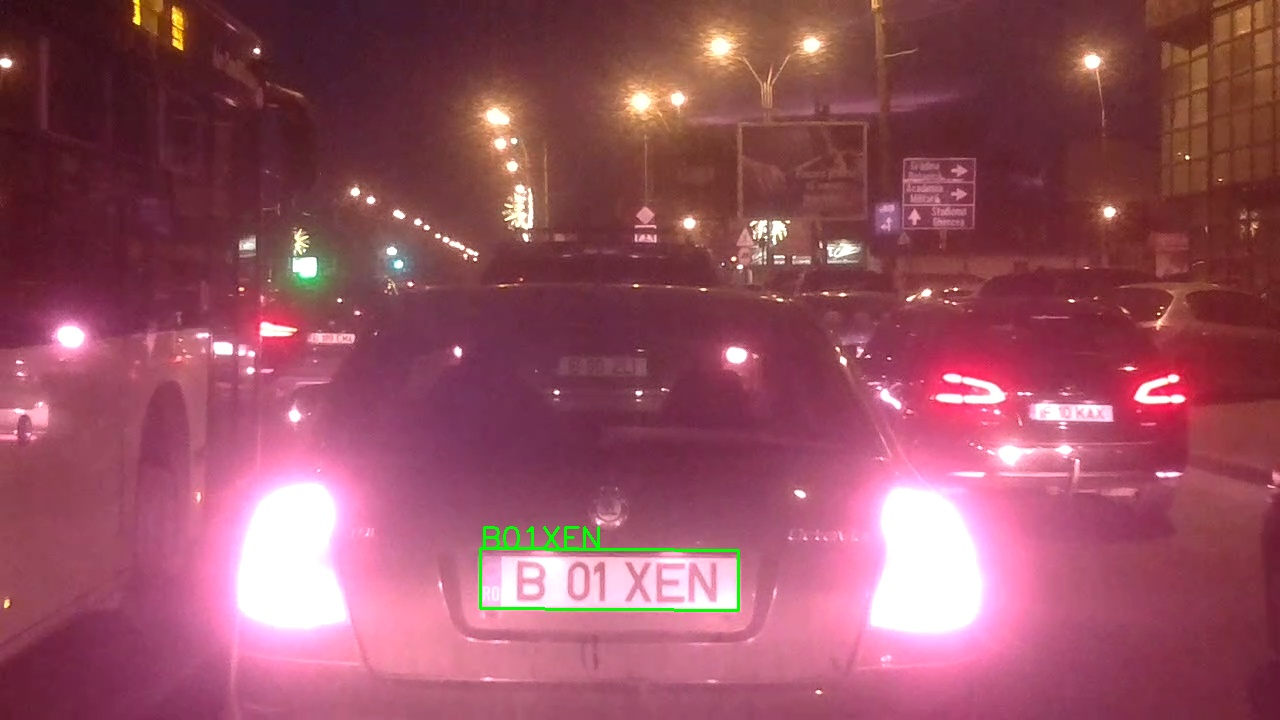license-plate: (479, 548, 740, 612)
